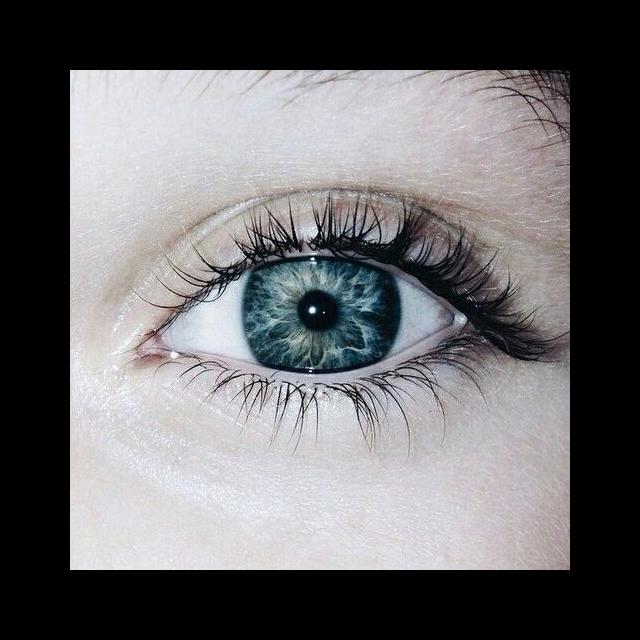eye: (169, 254, 455, 374)
iris: (247, 267, 398, 369)
